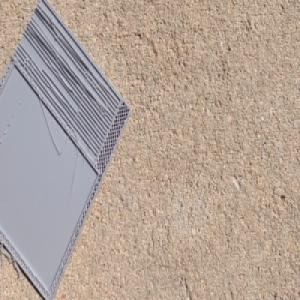PlasticPart: (0, 0, 133, 300)
